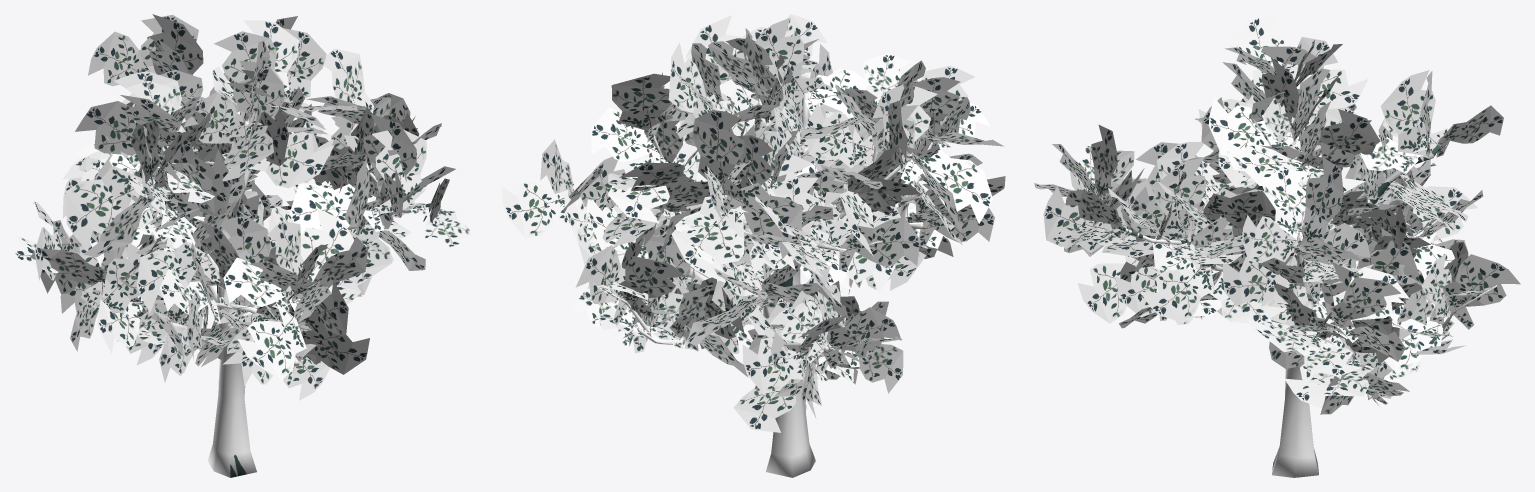
File: ağaç.fbx
3 views of the same model, side by side, from view 1: azimuth 30°, elevation 25°; view 2: azimuth 150°, elevation 25°; view 3: azimuth 270°, elevation 25° (orthographic). The views are drawn at different scales.
Parts seen in each view (by area): view 1: Ağaç, Ağaç|Tree Branch|Dupli|108, Ağaç|Tree Branch|Dupli|46, Ağaç|Tree Branch|Dupli|41, Ağaç|Tree Branch|Dupli|251, Ağaç|Tree Branch|Dupli|64, Ağaç|Tree Branch|Dupli|119, Ağaç|Tree Branch|Dupli|299, Ağaç|Tree Branch|Dupli|254, Ağaç|Tree Branch|Dupli|219, Ağaç|Tree Branch|Dupli|17, Ağaç|Tree Branch|Dupli|14 (+60 smaller); view 2: Ağaç, Ağaç|Tree Branch|Dupli|216, Ağaç|Tree Branch|Dupli|113, Ağaç|Tree Branch|Dupli|217, Ağaç|Tree Branch|Dupli|185, Ağaç|Tree Branch|Dupli|230, Ağaç|Tree Branch|Dupli|176, Ağaç|Tree Branch|Dupli|212, Ağaç|Tree Branch|Dupli|116, Ağaç|Tree Branch|Dupli|172, Ağaç|Tree Branch|Dupli|63, Ağaç|Tree Branch|Dupli|275 (+76 smaller); view 3: Ağaç, Ağaç|Tree Branch|Dupli|195, Ağaç|Tree Branch|Dupli|221, Ağaç|Tree Branch|Dupli|241, Ağaç|Tree Branch|Dupli|146, Ağaç|Tree Branch|Dupli|138, Ağaç|Tree Branch|Dupli|256, Ağaç|Tree Branch|Dupli|176, Ağaç|Tree Branch|Dupli|174, Ağaç|Tree Branch|Dupli|149, Ağaç|Tree Branch|Dupli|17, Ağaç|Tree Branch|Dupli|173 (+63 smaller).
Part boxes in pixels (x1=…): Ağaç: x1=93, y1=119, x2=430, y2=477; Ağaç|Tree Branch|Dupli|108: x1=65, y1=165, x2=157, y2=251; Ağaç|Tree Branch|Dupli|46: x1=237, y1=299, x2=306, y2=380; Ağaç|Tree Branch|Dupli|41: x1=137, y1=241, x2=219, y2=312; Ağaç|Tree Branch|Dupli|251: x1=289, y1=184, x2=384, y2=235; Ağaç|Tree Branch|Dupli|64: x1=249, y1=131, x2=334, y2=188; Ağaç|Tree Branch|Dupli|119: x1=75, y1=101, x2=160, y2=168; Ağaç|Tree Branch|Dupli|299: x1=81, y1=243, x2=145, y2=313; Ağaç|Tree Branch|Dupli|254: x1=372, y1=129, x2=426, y2=213; Ağaç|Tree Branch|Dupli|219: x1=88, y1=31, x2=150, y2=86; Ağaç|Tree Branch|Dupli|17: x1=296, y1=318, x2=369, y2=374; Ağaç|Tree Branch|Dupli|14: x1=223, y1=257, x2=302, y2=315; Ağaç: x1=573, y1=92, x2=932, y2=477; Ağaç|Tree Branch|Dupli|216: x1=692, y1=110, x2=744, y2=200; Ağaç|Tree Branch|Dupli|113: x1=900, y1=149, x2=992, y2=223; Ağaç|Tree Branch|Dupli|217: x1=671, y1=195, x2=748, y2=274; Ağaç|Tree Branch|Dupli|185: x1=501, y1=173, x2=575, y2=238; Ağaç|Tree Branch|Dupli|230: x1=839, y1=217, x2=920, y2=269; Ağaç|Tree Branch|Dupli|176: x1=611, y1=73, x2=676, y2=132; Ağaç|Tree Branch|Dupli|212: x1=716, y1=182, x2=802, y2=258; Ağaç|Tree Branch|Dupli|116: x1=805, y1=102, x2=874, y2=168; Ağaç|Tree Branch|Dupli|172: x1=591, y1=107, x2=665, y2=162; Ağaç|Tree Branch|Dupli|63: x1=746, y1=17, x2=824, y2=95; Ağaç|Tree Branch|Dupli|275: x1=742, y1=337, x2=806, y2=393; Ağaç: x1=1118, y1=136, x2=1497, y2=477; Ağaç|Tree Branch|Dupli|195: x1=1442, y1=254, x2=1520, y2=329; Ağaç|Tree Branch|Dupli|221: x1=1380, y1=70, x2=1447, y2=155; Ağaç|Tree Branch|Dupli|241: x1=1140, y1=264, x2=1214, y2=322; Ağaç|Tree Branch|Dupli|146: x1=1296, y1=109, x2=1380, y2=169; Ağaç|Tree Branch|Dupli|138: x1=1208, y1=98, x2=1293, y2=155; Ağaç|Tree Branch|Dupli|256: x1=1153, y1=157, x2=1206, y2=235; Ağaç|Tree Branch|Dupli|176: x1=1287, y1=157, x2=1343, y2=244; Ağaç|Tree Branch|Dupli|174: x1=1261, y1=168, x2=1306, y2=240; Ağaç|Tree Branch|Dupli|149: x1=1223, y1=252, x2=1299, y2=306; Ağaç|Tree Branch|Dupli|17: x1=1077, y1=256, x2=1138, y2=323; Ağaç|Tree Branch|Dupli|173: x1=1242, y1=215, x2=1303, y2=262.
Bounding box in the file's own units: 1616 × 1652 × 1741.
